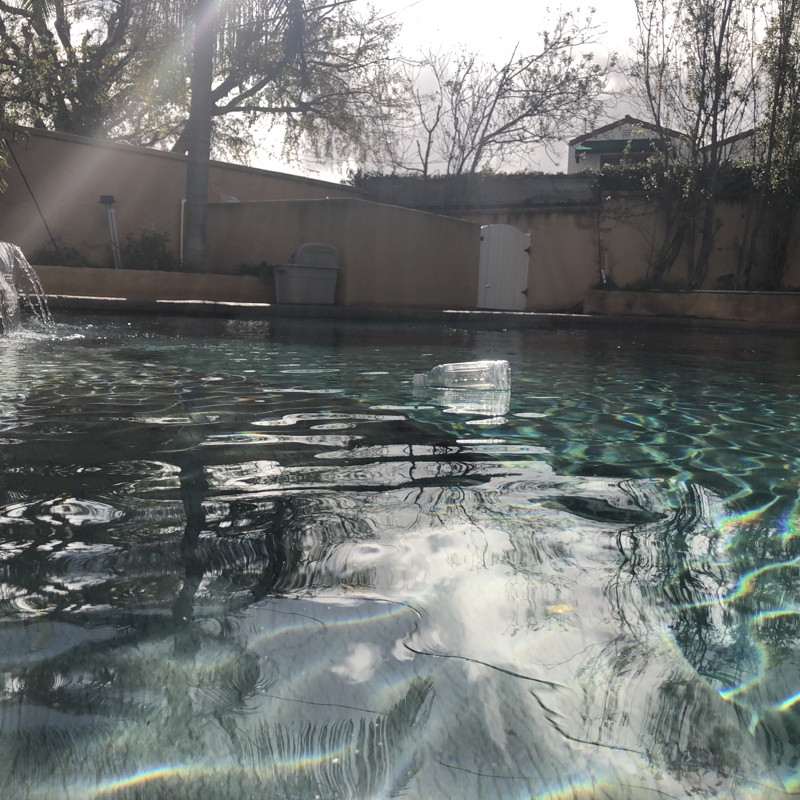Plastic Bottle: (407, 359, 517, 400)
